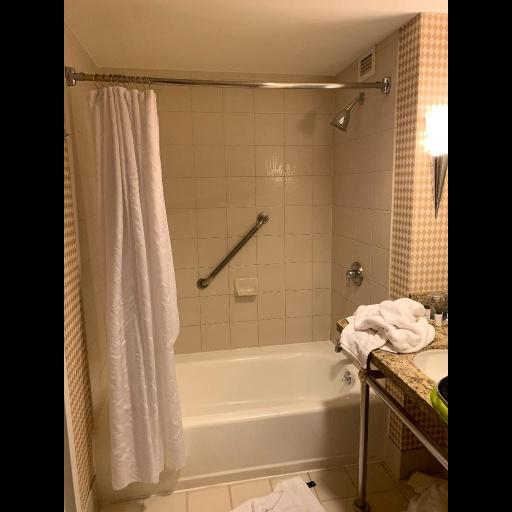clean_bathtub: (98, 335, 397, 496)
disorganized_towel: (344, 295, 432, 355)
messy_sink: (333, 291, 450, 468)
